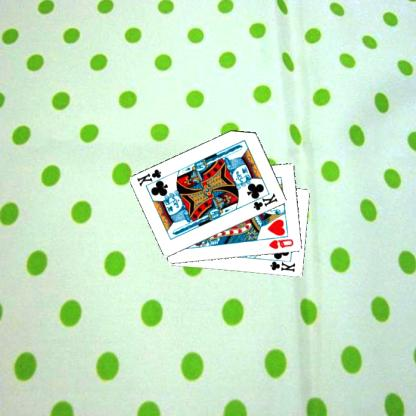KC: (248, 190, 281, 212), (136, 167, 170, 188), (268, 256, 298, 273)
QH: (268, 237, 297, 250)
